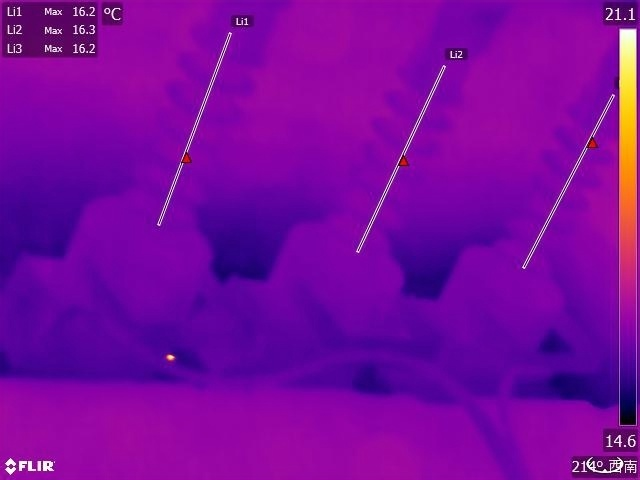tube: (270, 1, 520, 316), (83, 1, 296, 289), (481, 34, 620, 280)
